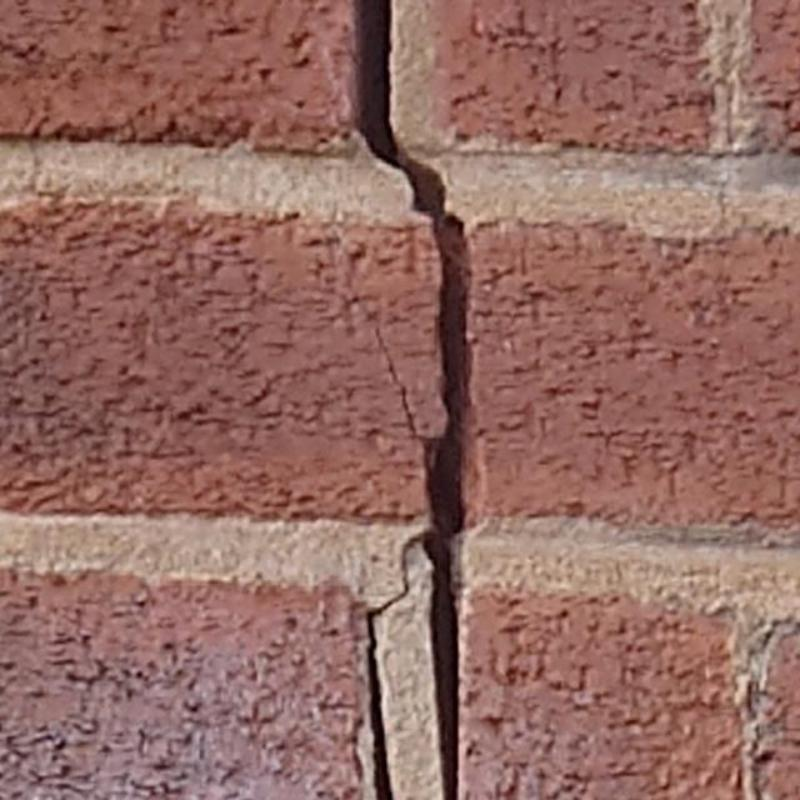crack: (355, 0, 472, 799), (366, 534, 422, 799), (370, 320, 431, 444)
